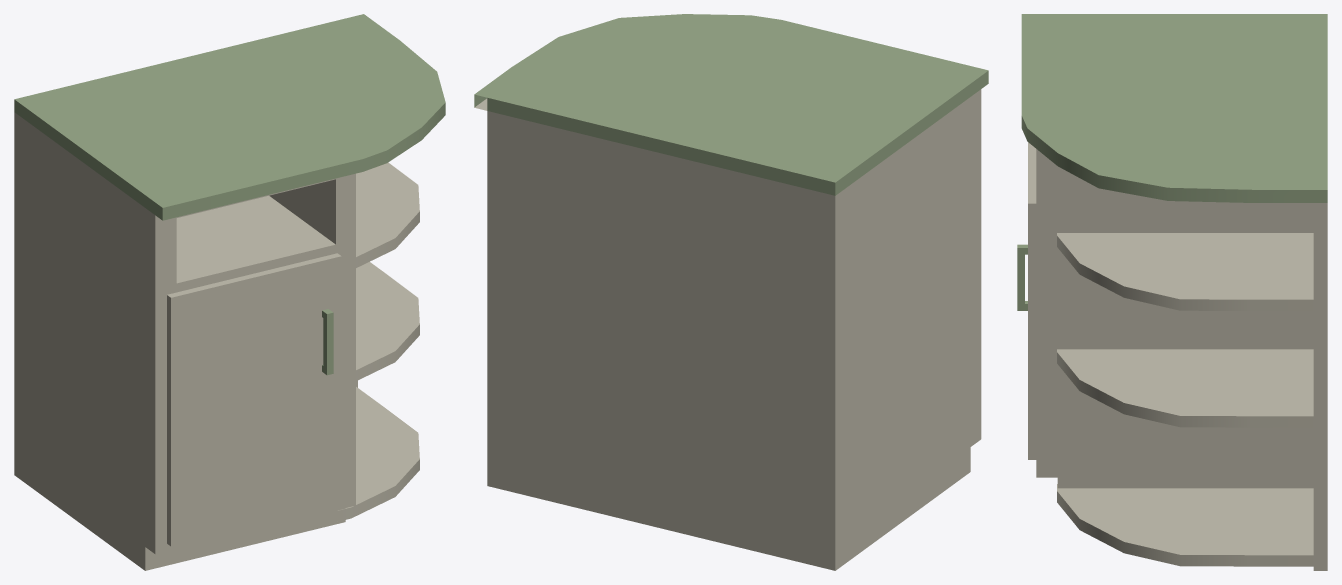
File: KitchenCounter_CornerEdge_01.fbx
3 views of the same model, side by side, from view 1: azimuth 30°, elevation 25°; view 2: azimuth 150°, elevation 25°; view 3: azimuth 270°, elevation 25° (orthographic). The views are drawn at different scales.
Visible parts, largest first — view 1: KitchenCounter_CornerEdge_01, KitchenCounter_CornerEdge_01_Door; view 2: KitchenCounter_CornerEdge_01; view 3: KitchenCounter_CornerEdge_01, KitchenCounter_CornerEdge_01_Door.
Part boxes in pixels (left/top/right/bottom): KitchenCounter_CornerEdge_01: left=14, top=14, right=445, bottom=570; KitchenCounter_CornerEdge_01_Door: left=167, top=253, right=341, bottom=546; KitchenCounter_CornerEdge_01: left=474, top=14, right=988, bottom=570; KitchenCounter_CornerEdge_01: left=1021, top=14, right=1327, bottom=570; KitchenCounter_CornerEdge_01_Door: left=1017, top=142, right=1036, bottom=459.
Bounding box in the file's own units: 0.9446 × 0.9704 × 0.7037.
